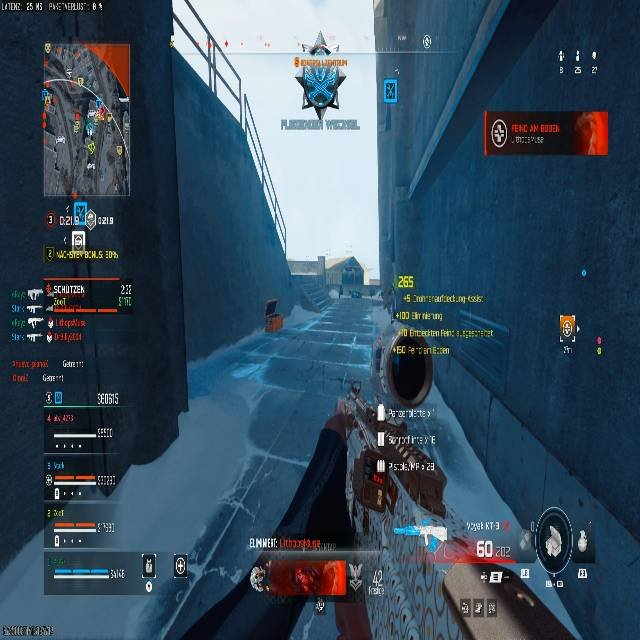player: (291, 30, 347, 119)
